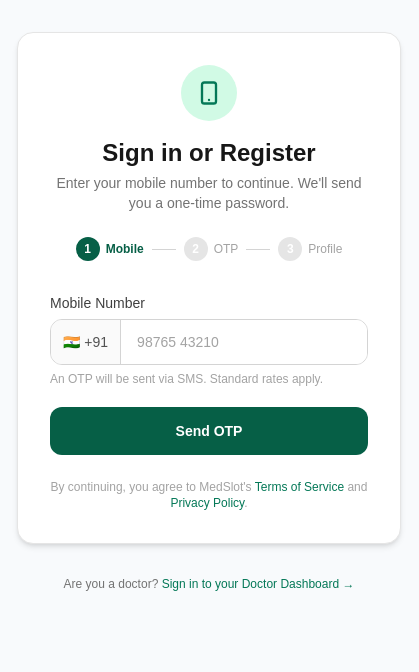
Test: PatientOtpAuth › Step 1 — Phone entry › shows error banner on 503 (SMS failure) response
Type "9876543210" into the field labelled "Mobile Number" at (244,342), box [121,320,367,364]
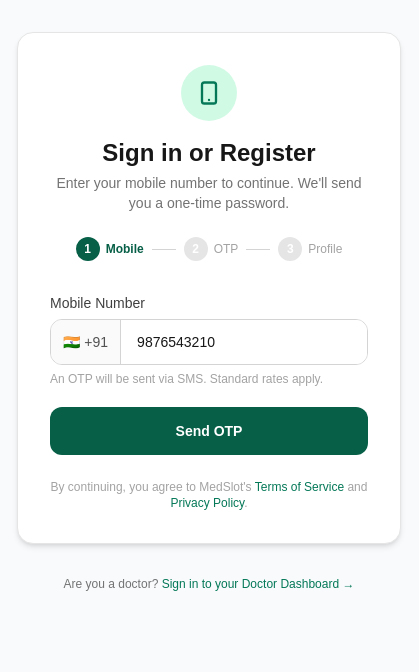
Click the button "Send OTP" at (209,431), box [50,407,368,455]
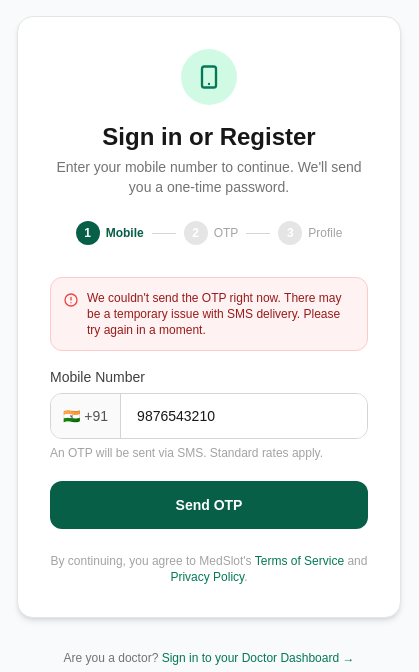
Check: the text "couldn't send the OTP" is shown, box [87,291,341,337]
